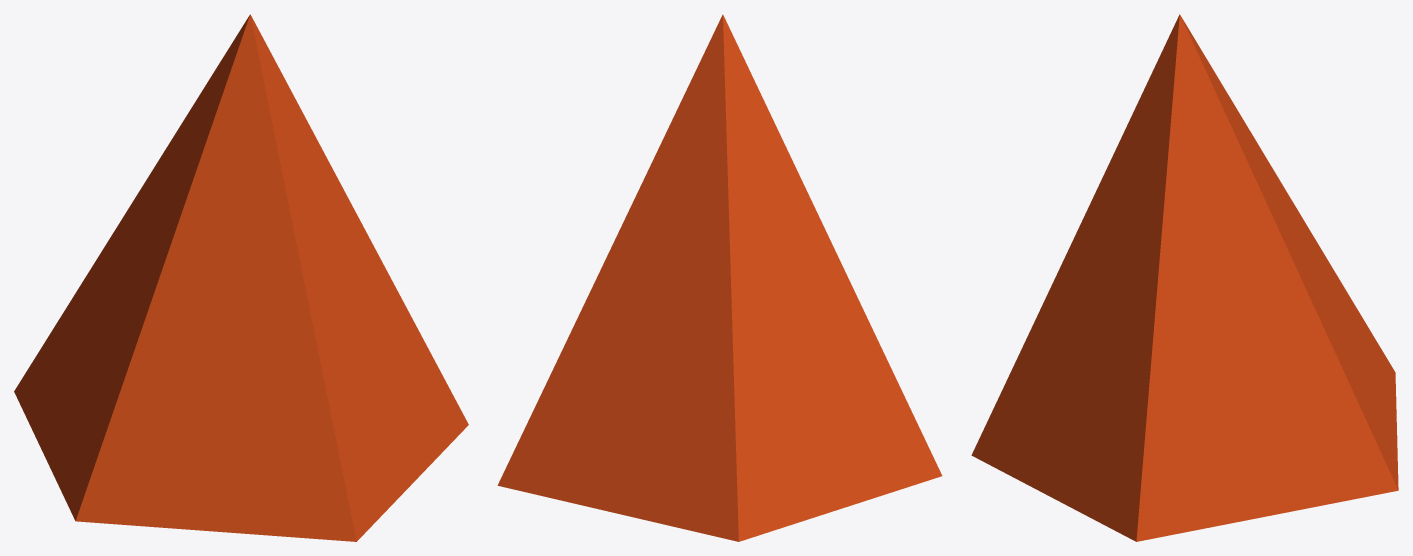
The model's file is pergunta23Obj.fbx.
3 renders of one model, left to right at view 1: azimuth 30°, elevation 25°; view 2: azimuth 150°, elevation 25°; view 3: azimuth 270°, elevation 25°, orthographic. The views are drawn at different scales.
Parts seen in each view (by area): view 1: node_id54 (×3); view 2: node_id54 (×2); view 3: node_id54 (×3).
Part boxes in pixels (<box>): node_id54 (×3): <box>14,14,468,541</box>; node_id54 (×2): <box>497,14,942,541</box>; node_id54 (×3): <box>971,14,1398,541</box>.
Bounding box in the file's own units: 0.4546 × 0.4939 × 0.4332.
6 materials, 6 textured.
